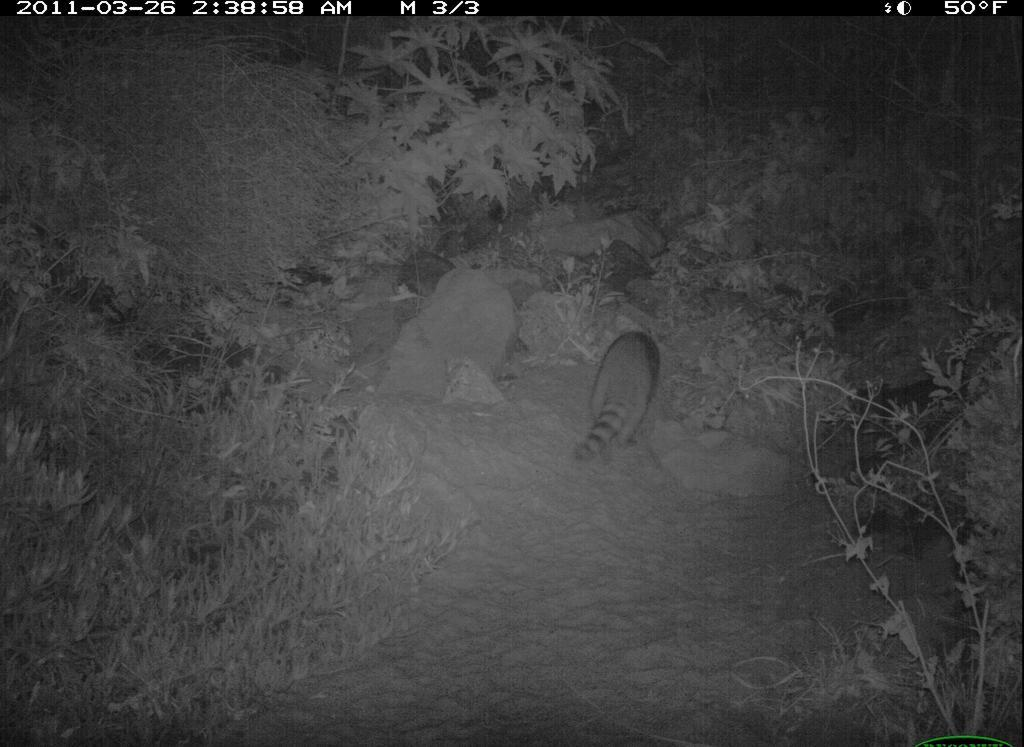raccoon: (570, 323, 683, 477)
